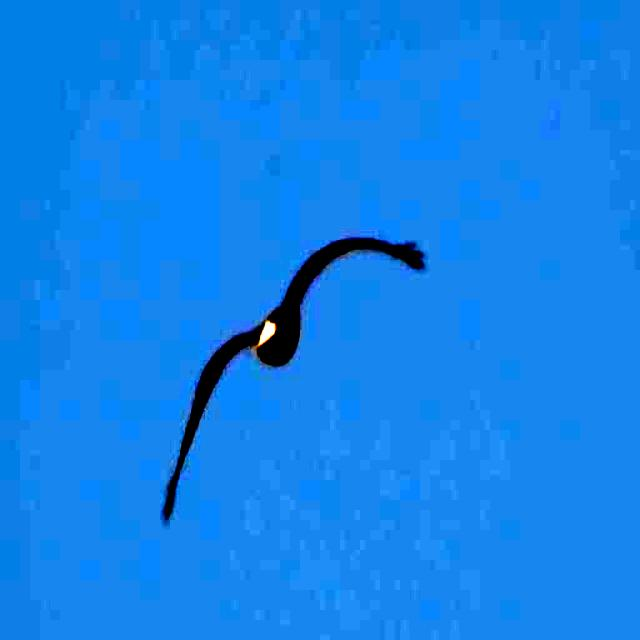airplane: (161, 222, 430, 536)
